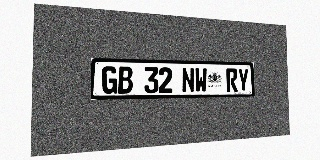2: (159, 67, 172, 93)
3: (144, 67, 158, 93)
B: (118, 66, 133, 94)
G: (102, 66, 117, 94)
N: (182, 67, 194, 93)
R: (226, 68, 238, 92)
W: (195, 68, 207, 92)
Y: (238, 68, 249, 92)
